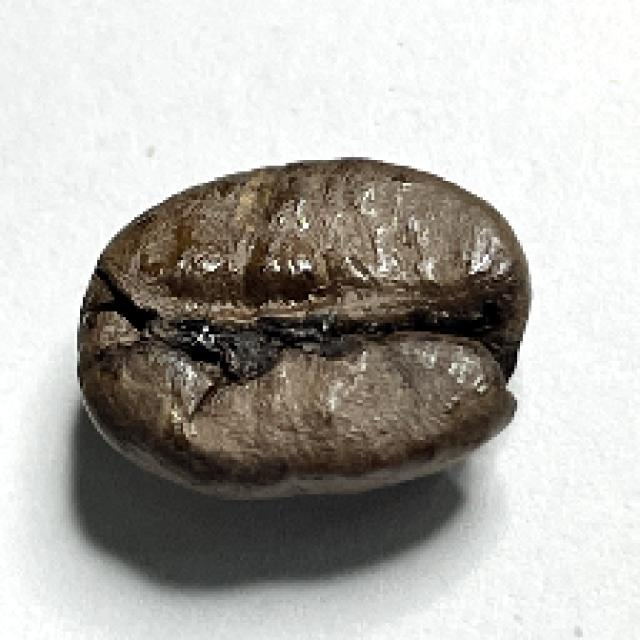bean: (70, 155, 536, 498)
